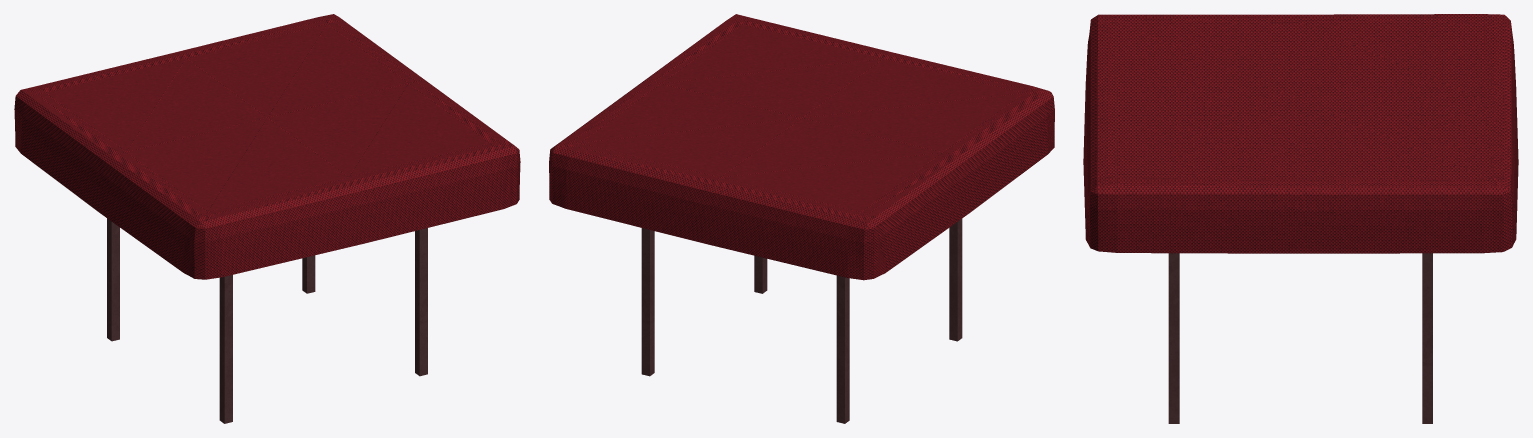
The model's file is Kare Masa.fbx.
The picture shows the model from 3 angles, left to right: view 1: azimuth 30°, elevation 25°; view 2: azimuth 150°, elevation 25°; view 3: azimuth 270°, elevation 25°; orthographic projection. The views are drawn at different scales.
Parts seen in each view (by area): view 1: Kare Masa; view 2: Kare Masa; view 3: Kare Masa.
Part boxes in pixels (<box>): Kare Masa: <box>14,14,520,423</box>; Kare Masa: <box>549,14,1054,423</box>; Kare Masa: <box>1083,14,1518,423</box>.
Bounding box in the file's own units: 120 × 81.82 × 120.
2 materials, 2 textured.
